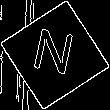N_S: (30, 26, 80, 84)
